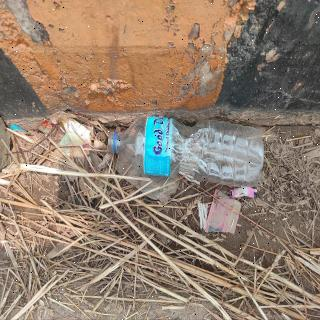Plastic-bottle: (106, 113, 267, 192)
